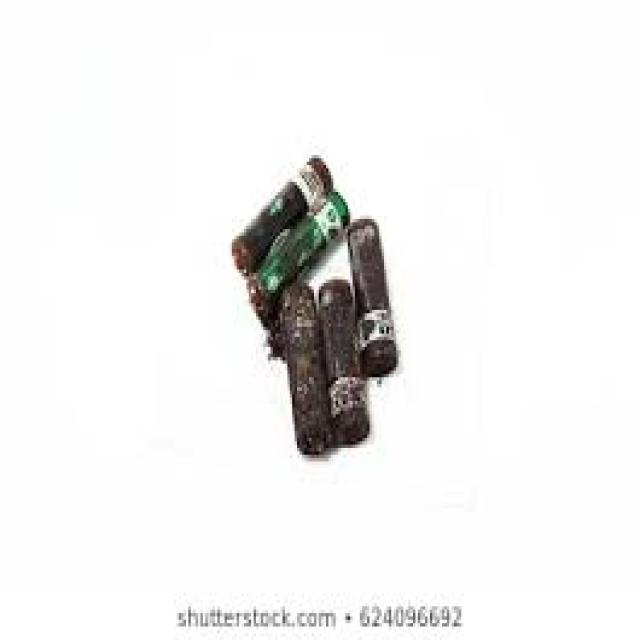battery: (267, 218, 400, 456), (232, 155, 348, 333)
